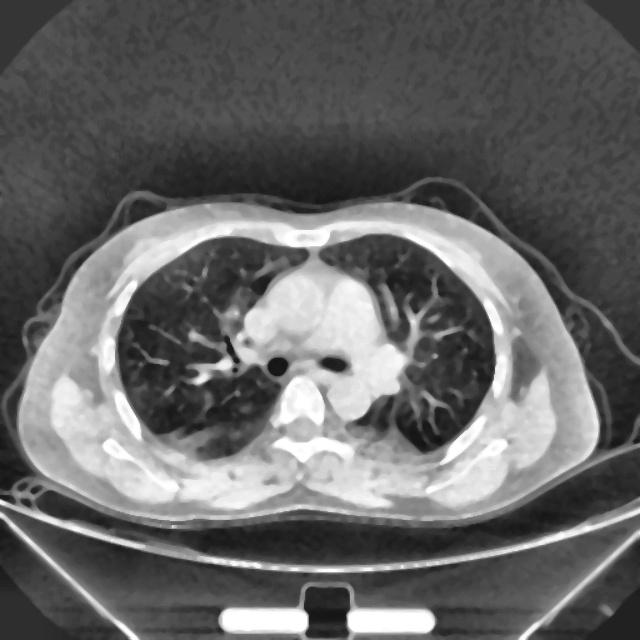covid: (15, 188, 602, 529)
